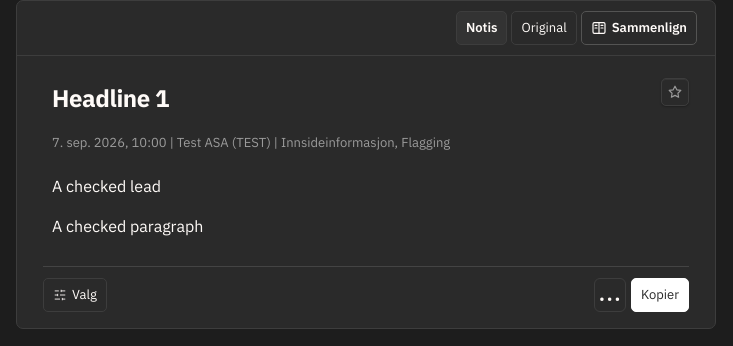
Scenario: keeps PDF source text available with lazy loading and retry
The width and height of the screenshot is (733, 346).
Click the button "Original" at (544, 28), box [512, 11, 577, 45]
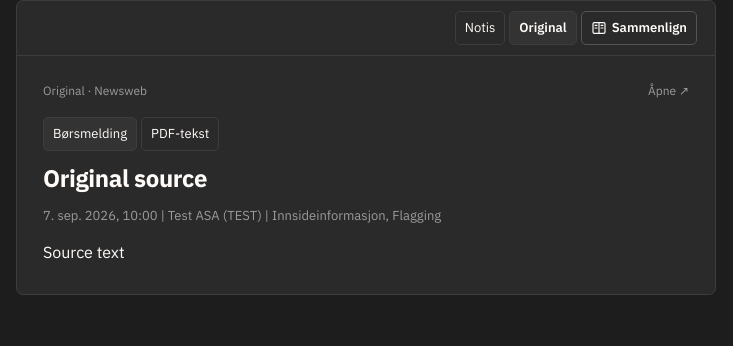
Click the button "PDF-tekst" at (180, 134), box [141, 117, 219, 151]
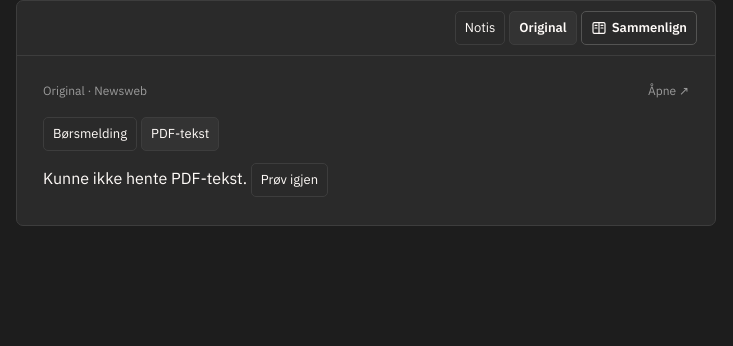
Now the element named "Original og kilder" shows "Kunne ikke hente PDF-tekst", box [43, 168, 247, 188]
Click the button "Prøv igjen" at (289, 180), box [251, 163, 328, 197]
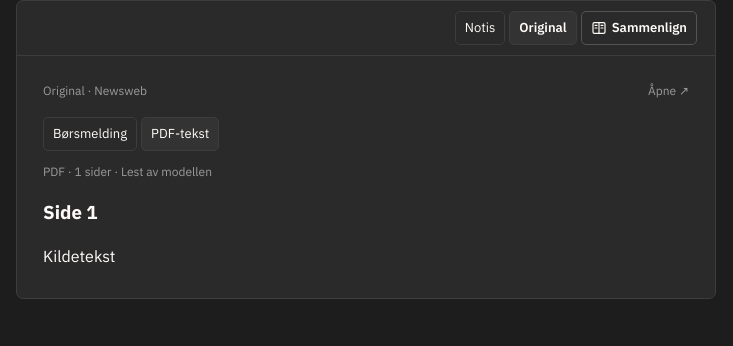
Now the element named "Original og kilder" shows "Kildetekst", box [43, 246, 116, 266]
